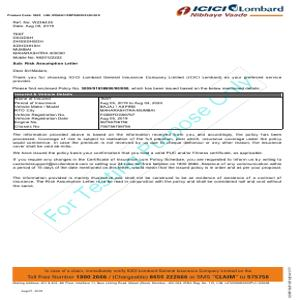table: (12, 91, 285, 130)
text: (9, 17, 284, 91), (12, 131, 282, 188)
